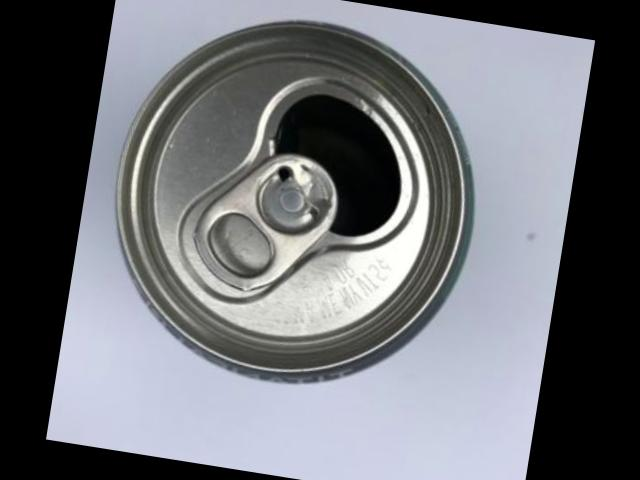metal: (119, 24, 474, 384)
